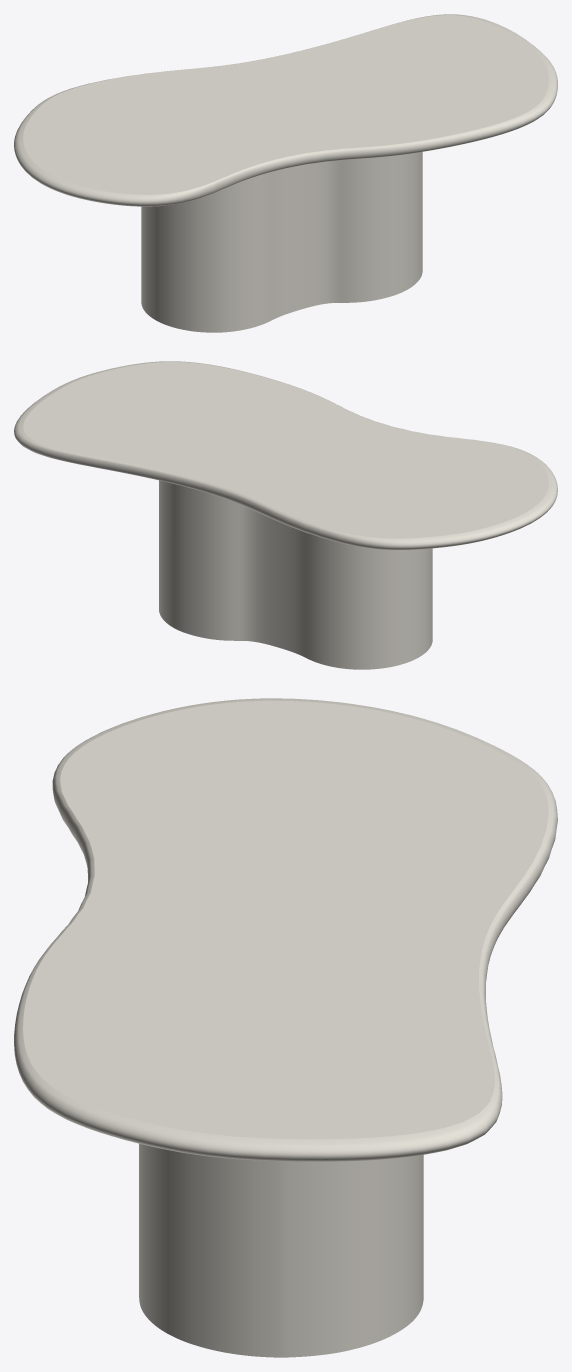
Rendered from pale_wave_round_riverwave.glb.
3 views of the same model, one above another, from view 1: azimuth 30°, elevation 25°; view 2: azimuth 150°, elevation 25°; view 3: azimuth 270°, elevation 25° (orthographic). The views are drawn at different scales.
Visible parts, largest first — view 1: round_wave, riverwave; view 2: round_wave, riverwave; view 3: round_wave, riverwave.
Boxes of the visible parts, <box> form: round_wave: <box>14,14,557,206</box>; riverwave: <box>141,152,422,332</box>; round_wave: <box>14,361,557,550</box>; riverwave: <box>159,480,432,669</box>; round_wave: <box>14,698,557,1161</box>; riverwave: <box>139,1143,423,1357</box>.
Bounding box in the file's own units: 7.5 × 2.5 × 3.8.
Materials: 1 (1 with a texture image).
